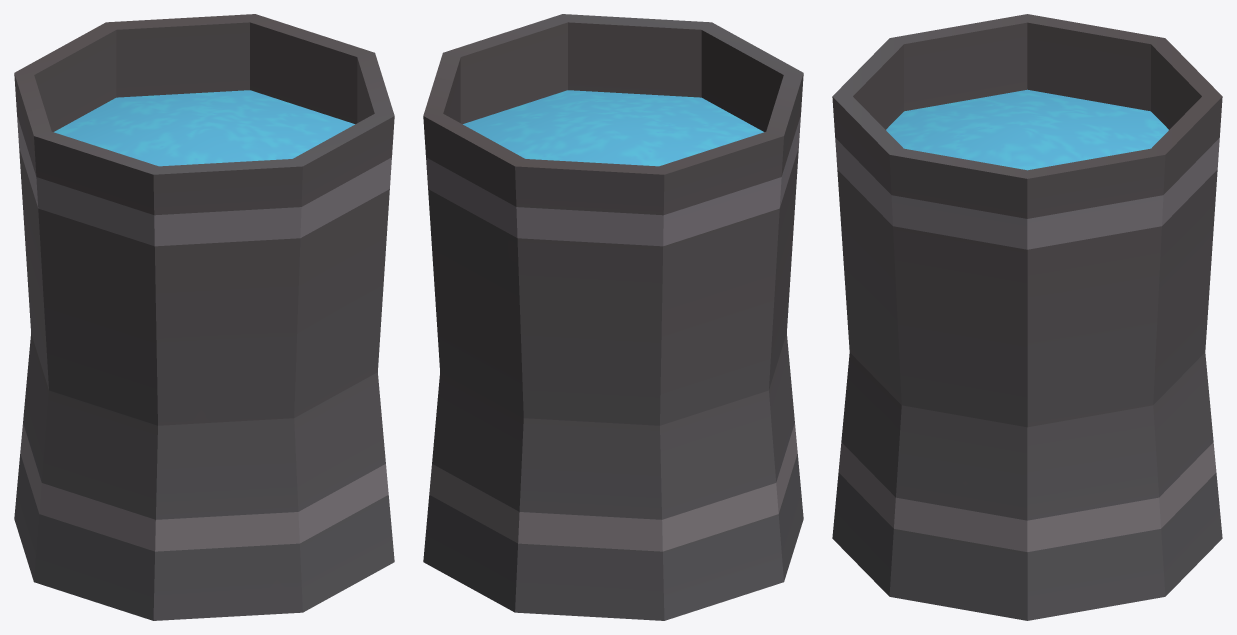
Rendered from SM_Barrel_2A.FBX.
3 renders of one model, left to right at view 1: azimuth 30°, elevation 25°; view 2: azimuth 150°, elevation 25°; view 3: azimuth 270°, elevation 25°, orthographic.
Parts seen in each view (by area): view 1: SM_Barrel_2A; view 2: SM_Barrel_2A; view 3: SM_Barrel_2A.
Boxes of the visible parts, x1,y1,x2,y2 form: SM_Barrel_2A: (14,14,394,620); SM_Barrel_2A: (423,14,803,620); SM_Barrel_2A: (832,14,1222,620).
Size of what is drawn, in the model's own units: 82.8 by 82.8 by 104.
